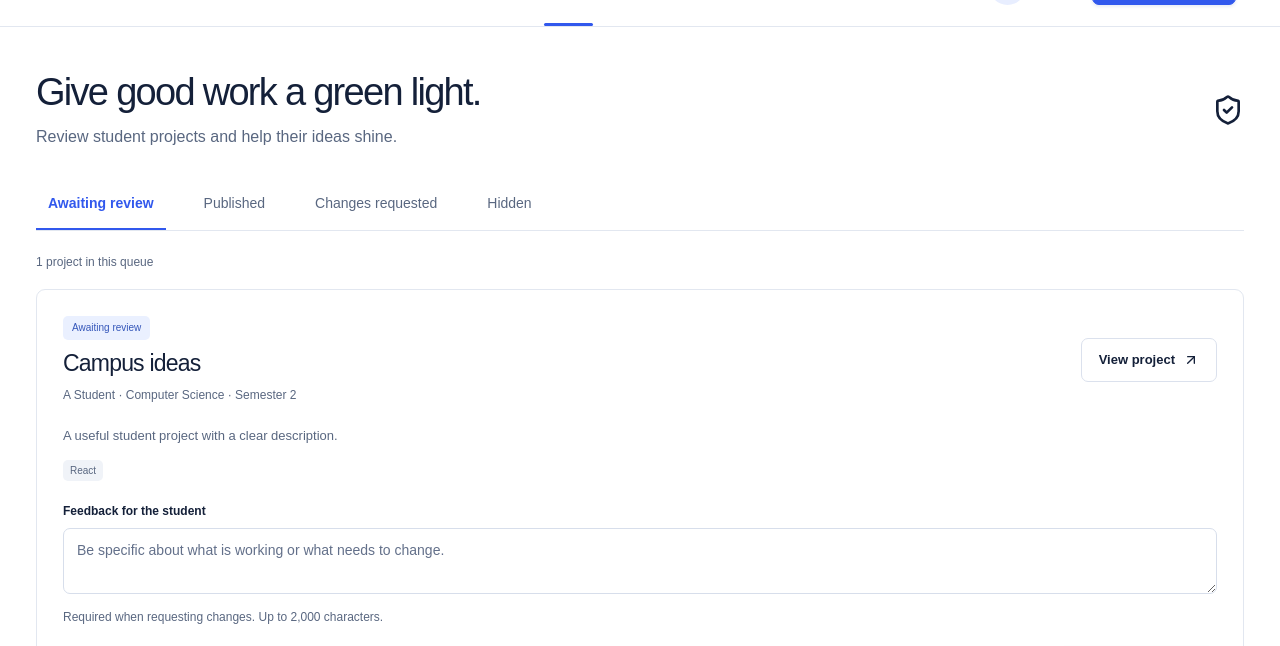
expired-session moderation retains unsent feedback and announces the error
This screenshot has width=1280, height=646.
Type "Keep this review feedback." into the text box labelled "Feedback for the student". click: (640, 560)
box: [63,528,1217,594]
(page scrolled)
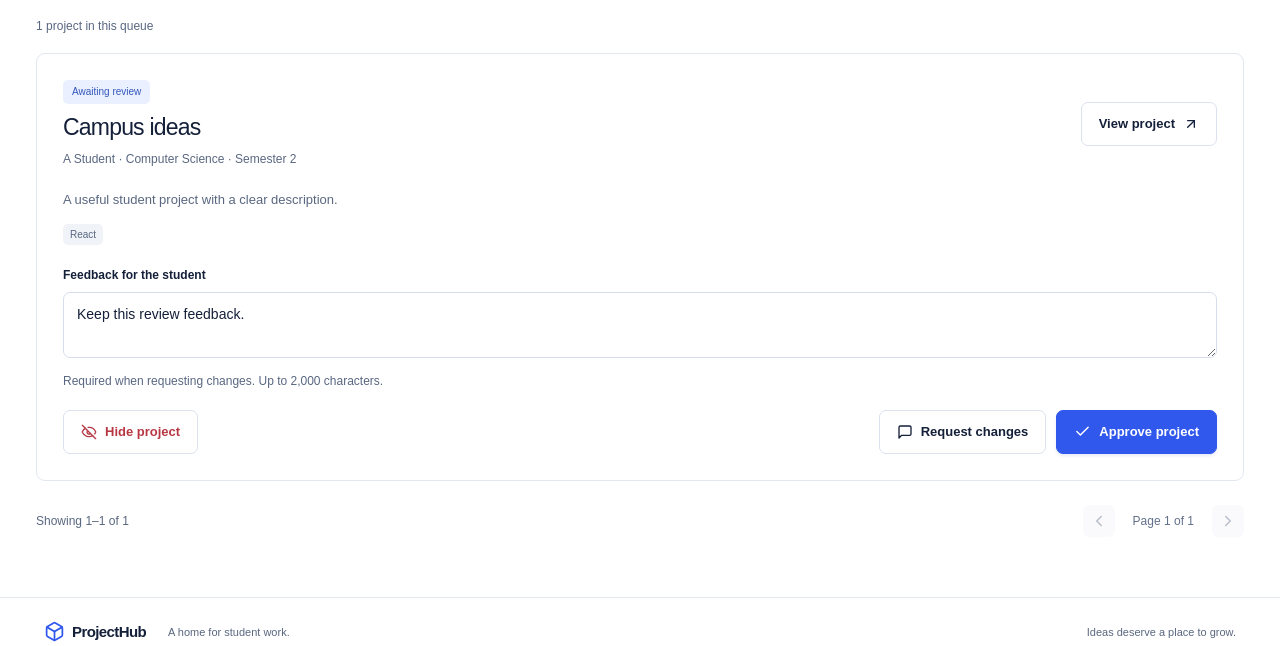
Click the button "Request changes". click: (963, 432)
box: [879,410,1046,454]
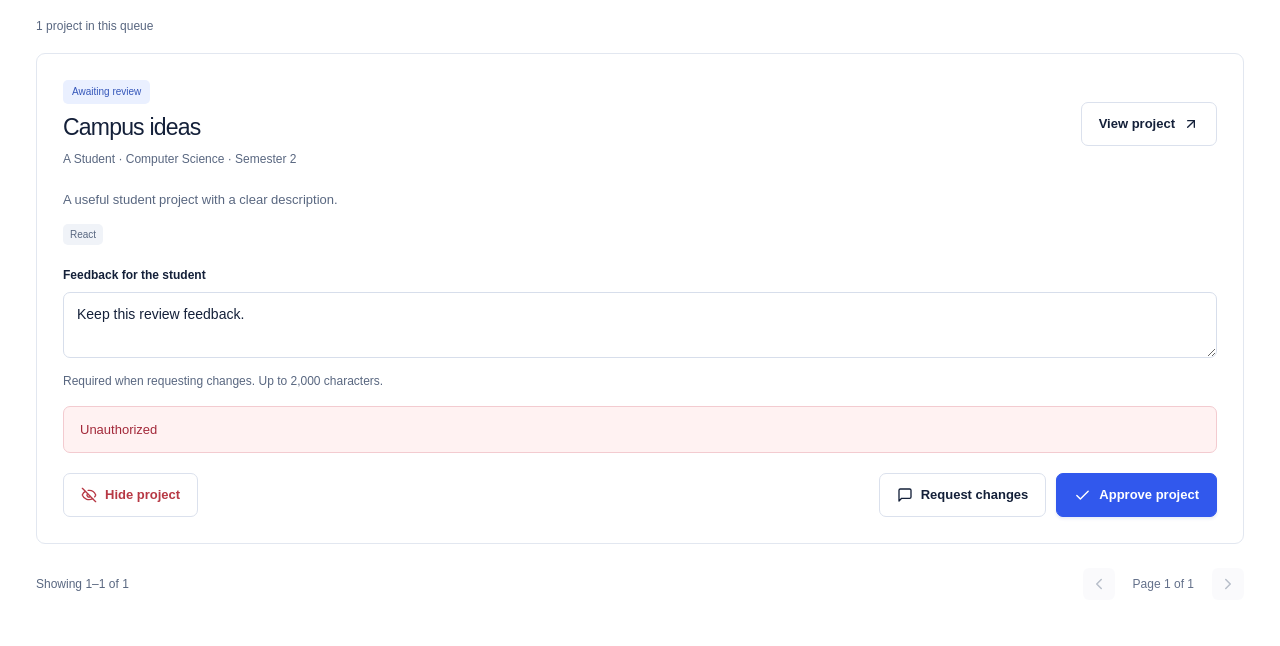
Now the message "Unauthorized" is shown, box [63,406,1217,453]
